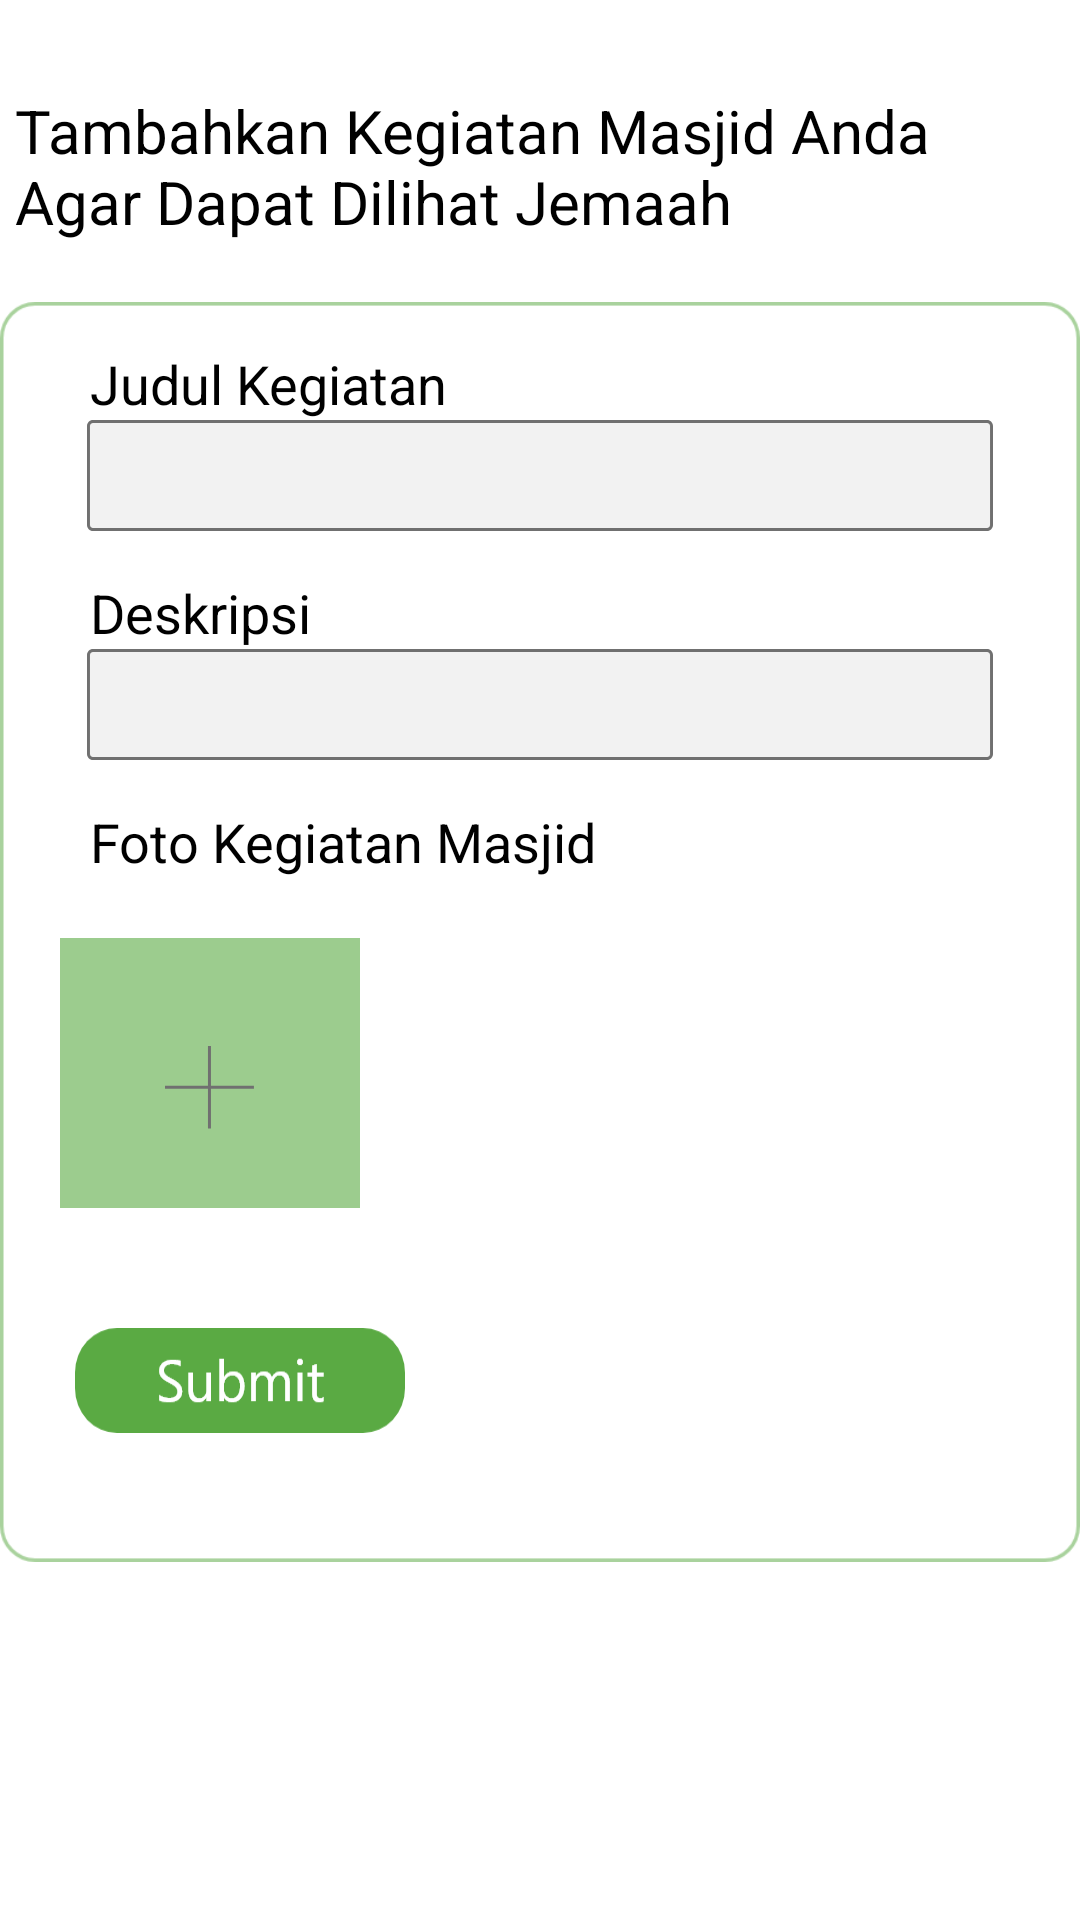

Icons on this 1080×1920 Android screen, each with the point to tap as [x,y]:
plus: [210,1073]
